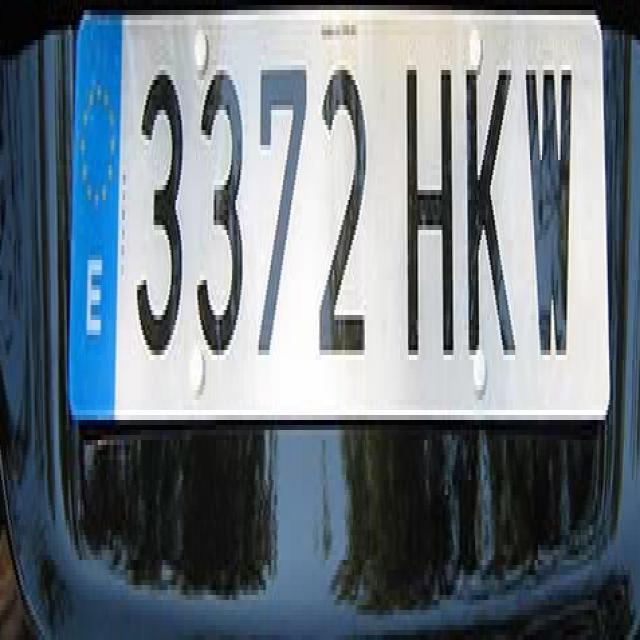EU: (74, 7, 611, 418)
Espagne: (68, 10, 121, 427)
